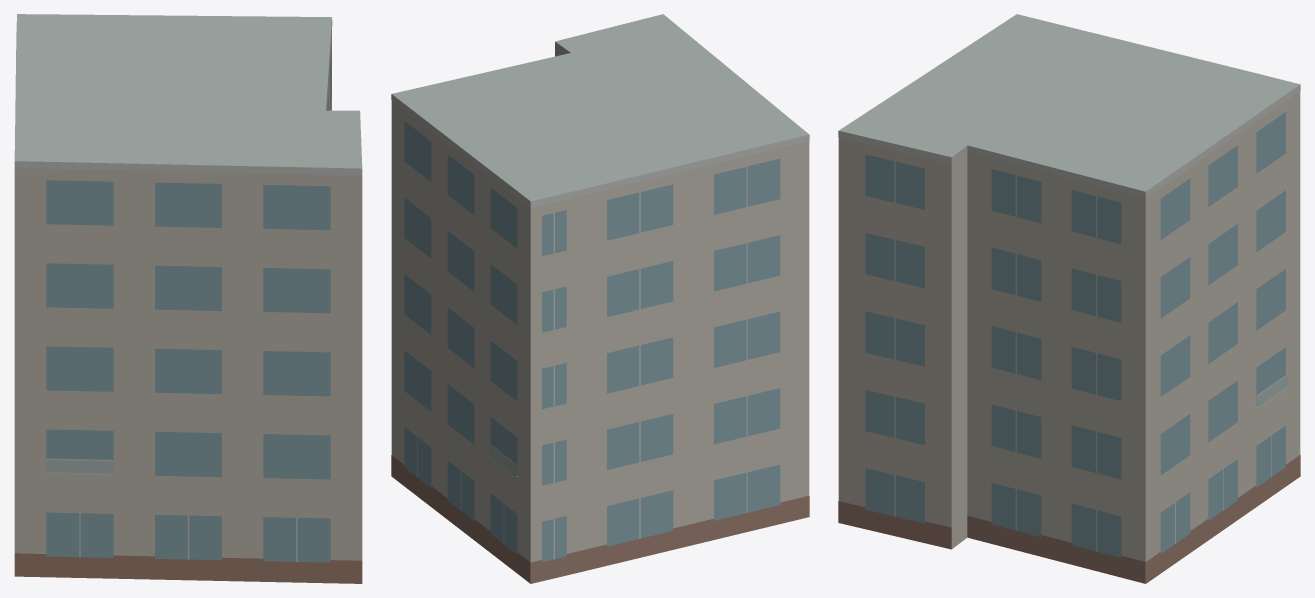
File: survey-upis-33043213.glb
3 renders of one model, left to right at view 1: azimuth 30°, elevation 25°; view 2: azimuth 150°, elevation 25°; view 3: azimuth 270°, elevation 25°, orthographic. The views are drawn at different scales.
Visible parts, largest first — view 1: survey-upis-33043213.tmp; view 2: survey-upis-33043213.tmp; view 3: survey-upis-33043213.tmp.
Boxes of the visible parts, bbox=[...] form: survey-upis-33043213.tmp: bbox=[14, 14, 362, 583]; survey-upis-33043213.tmp: bbox=[391, 14, 809, 583]; survey-upis-33043213.tmp: bbox=[838, 14, 1300, 583].
Bounding box in the file's own units: 14 × 14.4 × 15.38.
